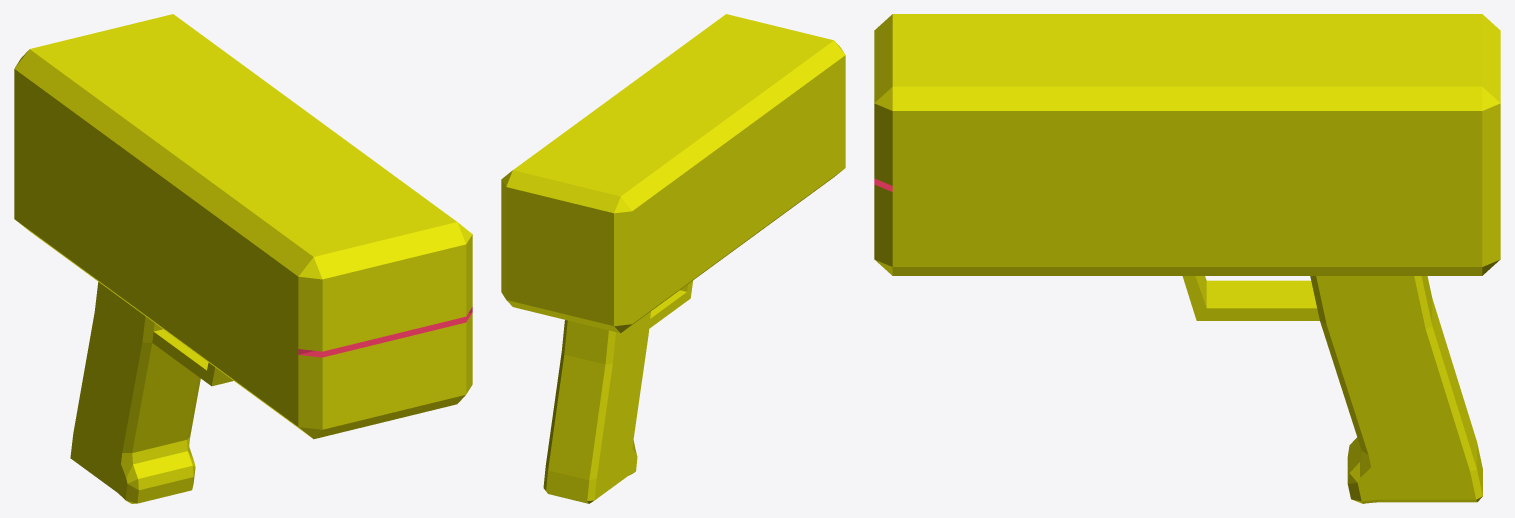
Rendered from Money_Gun_Model.fbx.
The picture shows the model from 3 angles, left to right: view 1: azimuth 30°, elevation 25°; view 2: azimuth 150°, elevation 25°; view 3: azimuth 270°, elevation 25°; orthographic projection. The views are drawn at different scales.
Visible parts, largest first — view 1: MoneyGun; view 2: MoneyGun; view 3: MoneyGun.
Boxes of the visible parts, x1=… form: MoneyGun: x1=14, y1=14, x2=472, y2=503; MoneyGun: x1=501, y1=14, x2=845, y2=503; MoneyGun: x1=874, y1=14, x2=1500, y2=503.
Size of the model in its own units: 200 by 465 by 600.
